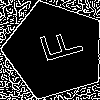F: (30, 25, 85, 68)
